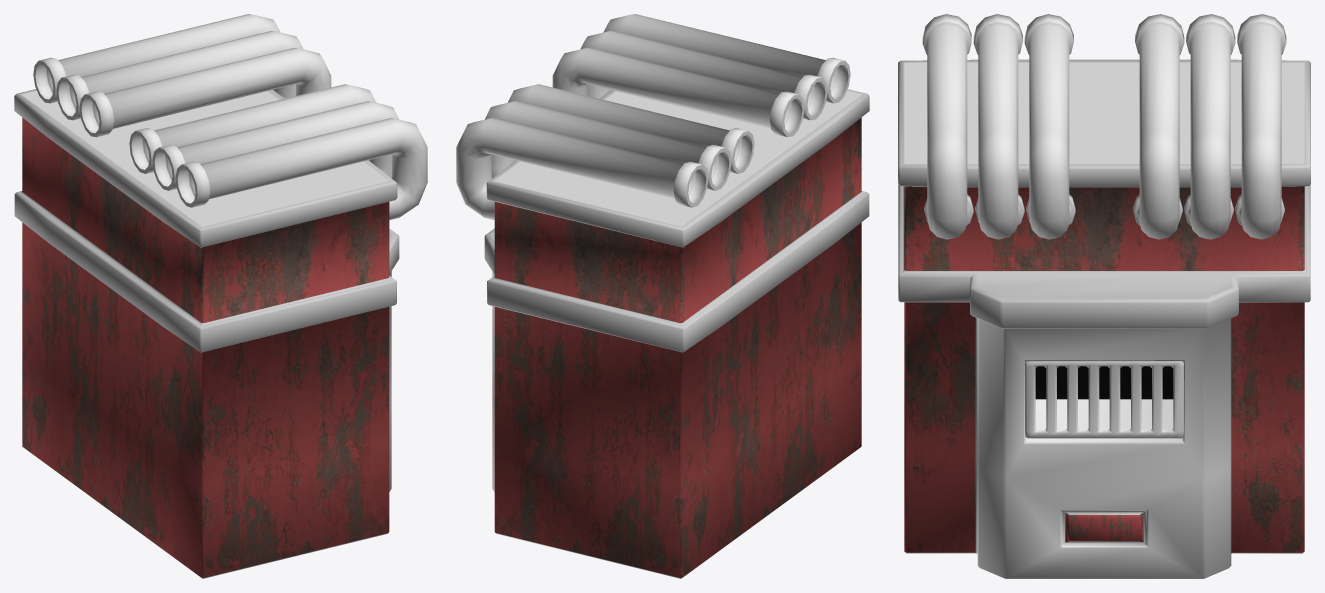
File: Furnace.fbx
3 views of the same model, side by side, from view 1: azimuth 30°, elevation 25°; view 2: azimuth 150°, elevation 25°; view 3: azimuth 270°, elevation 25° (orthographic). The views are drawn at different scales.
Visible parts, largest first — view 1: Furnace; view 2: Furnace; view 3: Furnace.
Boxes of the visible parts, x1,y1,x2,y2 form: Furnace: (14,14,427,578); Furnace: (456,14,869,578); Furnace: (898,14,1310,578).
Bounding box in the file's own units: 2.23 × 3.41 × 2.89.
